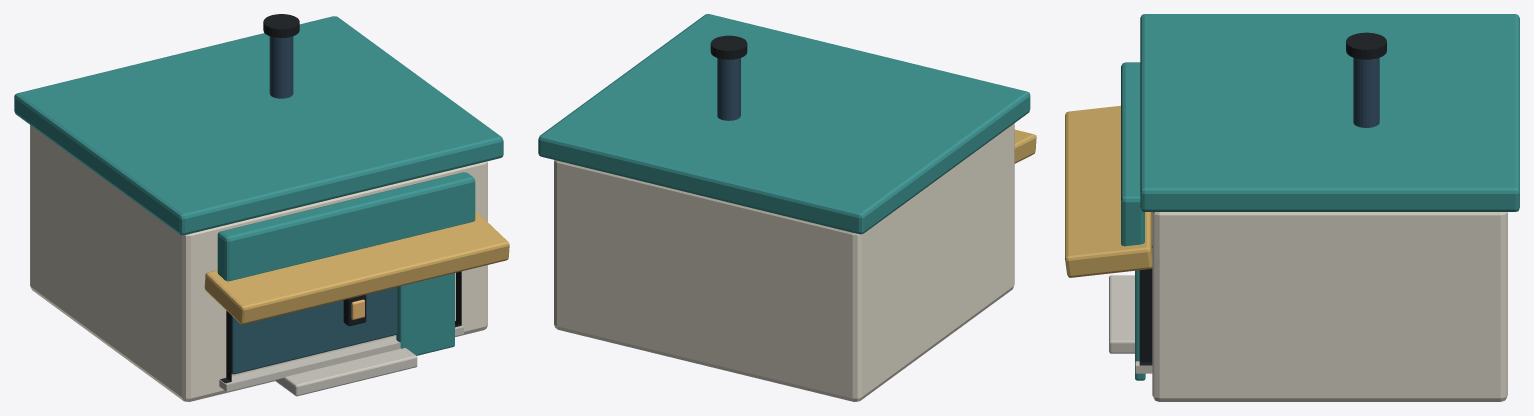
The model's file is COM_LOW_1x1_002.glb.
3 views of the same model, side by side, from view 1: azimuth 30°, elevation 25°; view 2: azimuth 150°, elevation 25°; view 3: azimuth 270°, elevation 25° (orthographic). The views are drawn at different scales.
Visible parts, largest first — view 1: COM_LOW_1x1_002_Visual; view 2: COM_LOW_1x1_002_Visual; view 3: COM_LOW_1x1_002_Visual.
Boxes of the visible parts, x1,y1,x2,y2 form: COM_LOW_1x1_002_Visual: (14, 14, 509, 401); COM_LOW_1x1_002_Visual: (538, 14, 1036, 401); COM_LOW_1x1_002_Visual: (1065, 14, 1519, 401).
Size of what is drawn, in the model's own units: 1.75 by 1.38 by 1.89.
